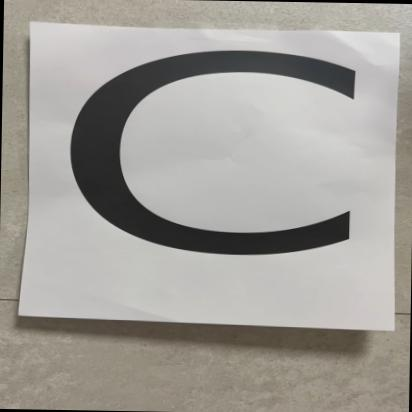seat: (25, 25, 393, 322)
